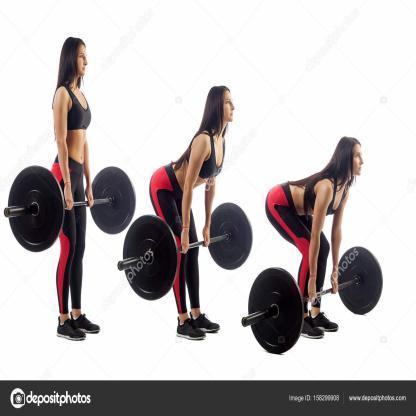barbell: (239, 245, 385, 354), (117, 201, 255, 302), (2, 164, 137, 253)
